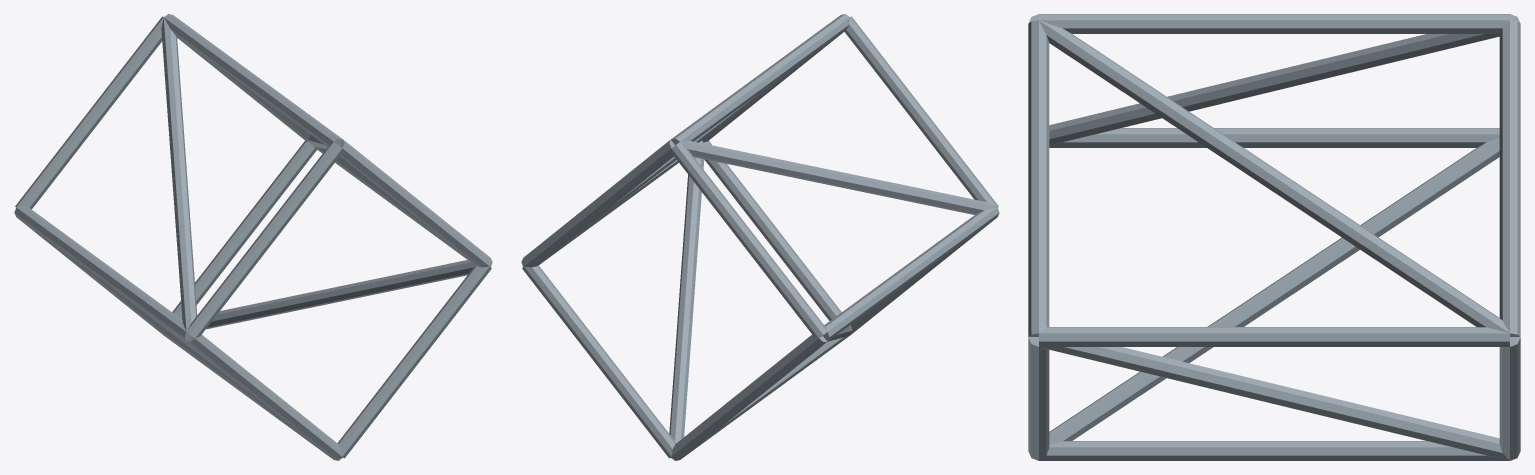
File: ref-reentry-shroud-41627.glb
The picture shows the model from 3 angles, left to right: view 1: azimuth 30°, elevation 25°; view 2: azimuth 150°, elevation 25°; view 3: azimuth 270°, elevation 25°; orthographic projection. The views are drawn at different scales.
Parts seen in each view (by area): view 1: Structure (×15); view 2: Structure (×14); view 3: Structure (×12).
Part boxes in pixels (x1,y1,x2,y2): Structure (×15): [14, 14, 492, 460]; Structure (×14): [522, 14, 999, 460]; Structure (×12): [1028, 14, 1520, 460].
Size of the model in its own units: 0.209 by 0.209 by 0.209.
